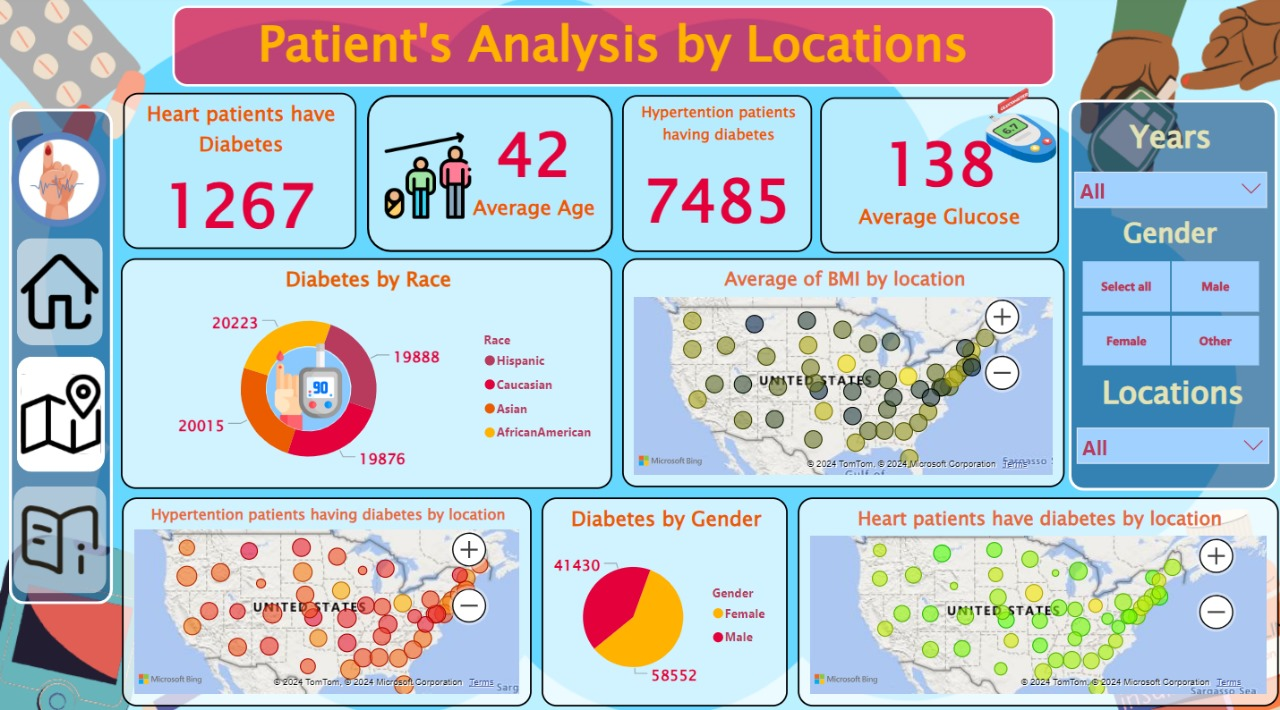

The page's visual inventory and layout, read from the dashboard file:
{"tool":"powerbi","page":{"name":"Analysis by locations","canvas":[1280,720],"ordinal":1},"visuals":[{"type":"shape","box":[1066.5,104.3,208.6,390.8],"z":0,"group":"g2"},{"type":"group","id":"g1","title":"Group 1","box":[0,112.2,128.9,495.6],"z":0},{"type":"shape","box":[8.4,112.2,103.7,495.4],"z":0,"group":"g1"},{"type":"group","id":"g2","title":"Group 3","box":[1060,104.3,217,390.8],"z":1000},{"type":"slicer","title":"Years","fields":{"Values":["PROJECT.year"]},"box":[1062.6,119.2,212.7,108.2],"z":1000,"group":"g3"},{"type":"actionButton","box":[17,241.3,86,107],"z":1000,"group":"g1"},{"type":"textbox","box":[171.5,9.6,881,81],"z":2000},{"type":"group","id":"g3","title":"Group 2","box":[1060,119.2,217,364.1],"z":2000,"group":"g2"},{"type":"slicer","title":"Gender","fields":{"Values":["PROJECT.gender"]},"box":[1060,217.5,215.7,160],"z":2000,"group":"g3"},{"type":"actionButton","box":[16.5,360,87.8,115.3],"z":2000,"group":"g1"},{"type":"map","title":"Average of BMI by location","fields":{"Category":["PROJECT.location"],"Size":["Avg(PROJECT.bmi)"]},"box":[620.9,262.8,441.9,229.1],"z":3000},{"type":"slicer","title":"Locations","fields":{"Values":["PROJECT.location"]},"box":[1064.3,375.1,212.7,108.2],"z":3000,"group":"g3"},{"type":"actionButton","box":[13.6,489.7,92.8,107],"z":3000,"group":"g1"},{"type":"card","title":"Hypertention patients having diabetes","fields":{"Values":["Measures Table.Hypertention patients having diabetes"]},"box":[620.9,98.8,189.5,157],"z":4000},{"type":"image","box":[0,120.4,129,127.6],"z":4000,"group":"g1"},{"type":"pieChart","title":"Diabetes by Gender","fields":{"Y":["CountNonNull(PROJECT.diabetes)"],"Category":["PROJECT.gender"]},"box":[540,501.4,245.7,208.6],"z":6000},{"type":"map","fields":{"Category":["PROJECT.location"],"Size":["Measures Table.Hypertention patients having diabetes"]},"box":[121.4,501.4,408.6,208.6],"z":7000},{"type":"donutChart","title":"Diabetes by Race","fields":{"Y":["Measures Table.Diabetes to Hispanic","Measures Table.Diabetes to Caucasian","Measures Table.Diabetes to Asian","Measures Table.Diabetes to AfricanAmerican"]},"box":[120.9,262.8,490.7,230.2],"z":7005,"group":"g4"},{"type":"image","box":[260,343,94.9,97.4],"z":7509,"group":"g4"},{"type":"map","fields":{"Size":["Measures Table.Heart patients have diabetes"],"Category":["PROJECT.location"]},"box":[795.7,501.4,480,208.6],"z":8000},{"type":"shape","box":[366.3,100.2,245.3,156.8],"z":9000,"group":"g6"},{"type":"group","id":"g4","title":"Group 7","box":[120.9,262.8,490.7,230.2],"z":9000},{"type":"card","fields":{"Values":["Measures Table.Average Age"]},"box":[454.2,93,157.4,153.9],"z":9500,"group":"g6"},{"type":"card","fields":{"Values":["Measures Table.Average Glucose"]},"box":[818.6,101.2,238.4,155.8],"z":9500,"group":"g7"},{"type":"group","id":"g5","title":"Group 4","box":[366.3,93,245.3,164],"z":10000},{"type":"card","title":"Heart patients have Diabetes","fields":{"Values":["Measures Table.Heart patients have diabetes"]},"box":[123.3,97.7,232.6,155.8],"z":11000},{"type":"group","id":"g6","title":"Group 1","box":[366.3,93,245.3,164],"z":11001,"group":"g5"},{"type":"image","box":[377.4,131.6,99,96.6],"z":11502,"group":"g5"},{"type":"image","box":[950.5,86,136,87.2],"z":11505,"group":"g7"},{"type":"group","id":"g7","title":"Group 5","box":[818.6,86,267.9,171],"z":11506}]}

Visuals, with their boxes in screenshot pixels (x1, y1, x2, y2), scaled from the page's 1280x720 canvas onto the 1280x710 screenshot:
shape: [left=1066, top=103, right=1275, bottom=488]
"Group 1" group: [left=0, top=111, right=129, bottom=599]
shape: [left=8, top=111, right=112, bottom=599]
"Group 3" group: [left=1060, top=103, right=1277, bottom=488]
"Years" slicer: [left=1063, top=118, right=1275, bottom=224]
actionButton: [left=17, top=238, right=103, bottom=343]
textbox: [left=172, top=9, right=1052, bottom=89]
"Group 2" group: [left=1060, top=118, right=1277, bottom=477]
"Gender" slicer: [left=1060, top=214, right=1276, bottom=372]
actionButton: [left=16, top=355, right=104, bottom=469]
"Average of BMI by location" map: [left=621, top=259, right=1063, bottom=485]
"Locations" slicer: [left=1064, top=370, right=1277, bottom=477]
actionButton: [left=14, top=483, right=106, bottom=588]
"Hypertention patients having diabetes" card: [left=621, top=97, right=810, bottom=252]
image: [left=0, top=119, right=129, bottom=245]
"Diabetes by Gender" pieChart: [left=540, top=494, right=786, bottom=700]
map - PROJECT.location x Measures Table.Hypertention patients having diabetes: [left=121, top=494, right=530, bottom=700]
"Diabetes by Race" donutChart: [left=121, top=259, right=612, bottom=486]
image: [left=260, top=338, right=355, bottom=434]
map - Measures Table.Heart patients have diabetes x PROJECT.location: [left=796, top=494, right=1276, bottom=700]
shape: [left=366, top=99, right=612, bottom=253]
"Group 7" group: [left=121, top=259, right=612, bottom=486]
card - Measures Table.Average Age: [left=454, top=92, right=612, bottom=243]
card - Measures Table.Average Glucose: [left=819, top=100, right=1057, bottom=253]
"Group 4" group: [left=366, top=92, right=612, bottom=253]
"Heart patients have Diabetes" card: [left=123, top=96, right=356, bottom=250]
"Group 1" group: [left=366, top=92, right=612, bottom=253]
image: [left=377, top=130, right=476, bottom=225]
image: [left=950, top=85, right=1086, bottom=171]
"Group 5" group: [left=819, top=85, right=1086, bottom=253]
